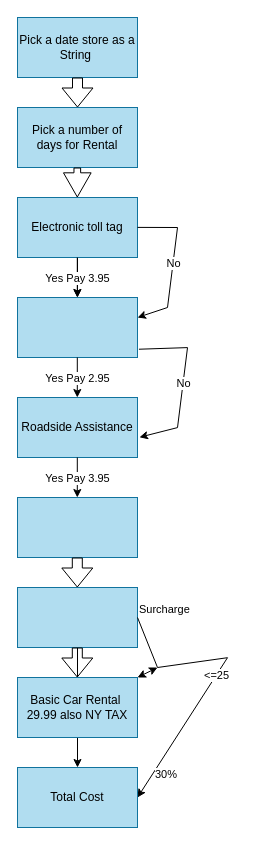
The diagram is 253 pixels wide and 845 high, and some of its shapes have lost their labels. The shapes that lost their labels are listed below. From the top down, each one's centre as x and y in pixels, then its label:
At (x=77, y=327): "Want a GPS".
At (x=77, y=527): "Ask for Age".
At (x=77, y=617): "Basic Car Rental 29.99".
